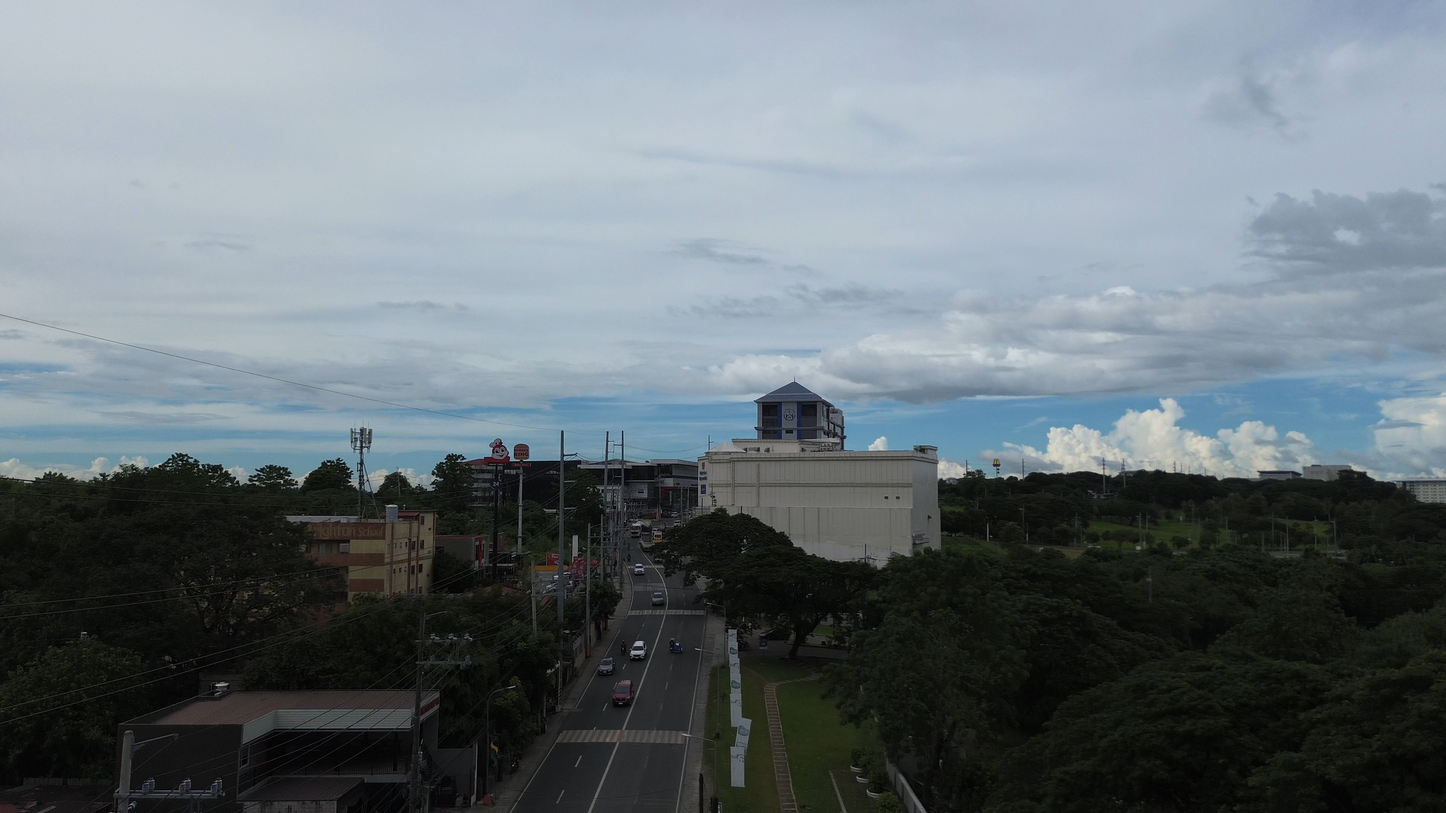car: (612, 681, 634, 706), (629, 640, 646, 659), (598, 656, 614, 675), (651, 591, 666, 606), (633, 562, 644, 574)
vehicle: (760, 629, 791, 640), (652, 528, 663, 542)
